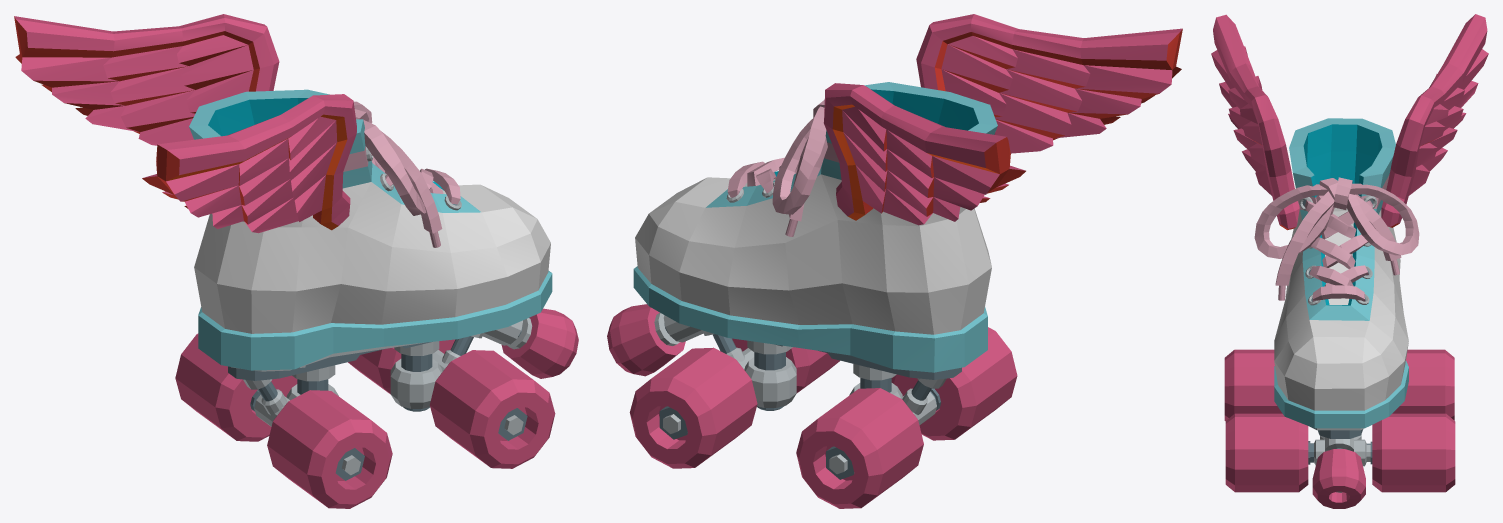
3 views of the same model, side by side, from view 1: azimuth 30°, elevation 25°; view 2: azimuth 150°, elevation 25°; view 3: azimuth 270°, elevation 25° (orthographic). The views are drawn at different scales.
Visible parts, largest first — view 1: node_MeshObject-1939506176-PolyPaper4; view 2: node_MeshObject-1939506176-PolyPaper4; view 3: node_MeshObject-1939506176-PolyPaper4.
Part boxes in pixels (x1,y1,x2,y2): node_MeshObject-1939506176-PolyPaper4: [14, 14, 578, 508]; node_MeshObject-1939506176-PolyPaper4: [607, 14, 1182, 508]; node_MeshObject-1939506176-PolyPaper4: [1211, 14, 1488, 508].
Bounding box in the file's own units: 2.4 × 1.99 × 1.47.
